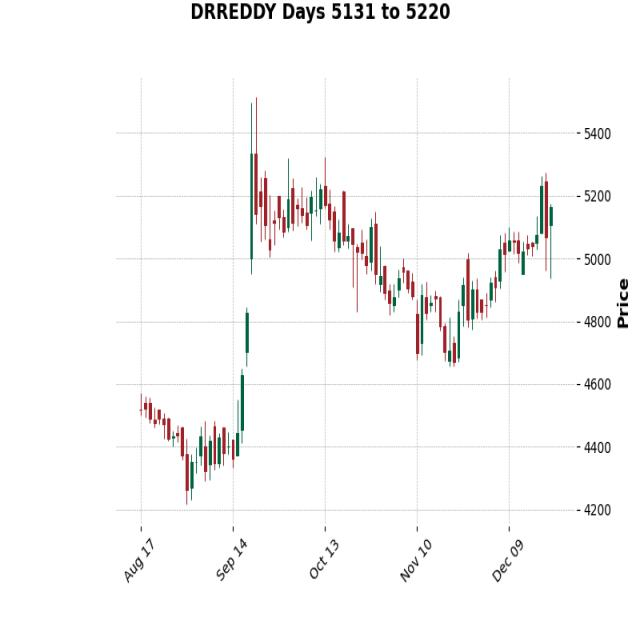Symmetric Triangle: (243, 101, 466, 468)
